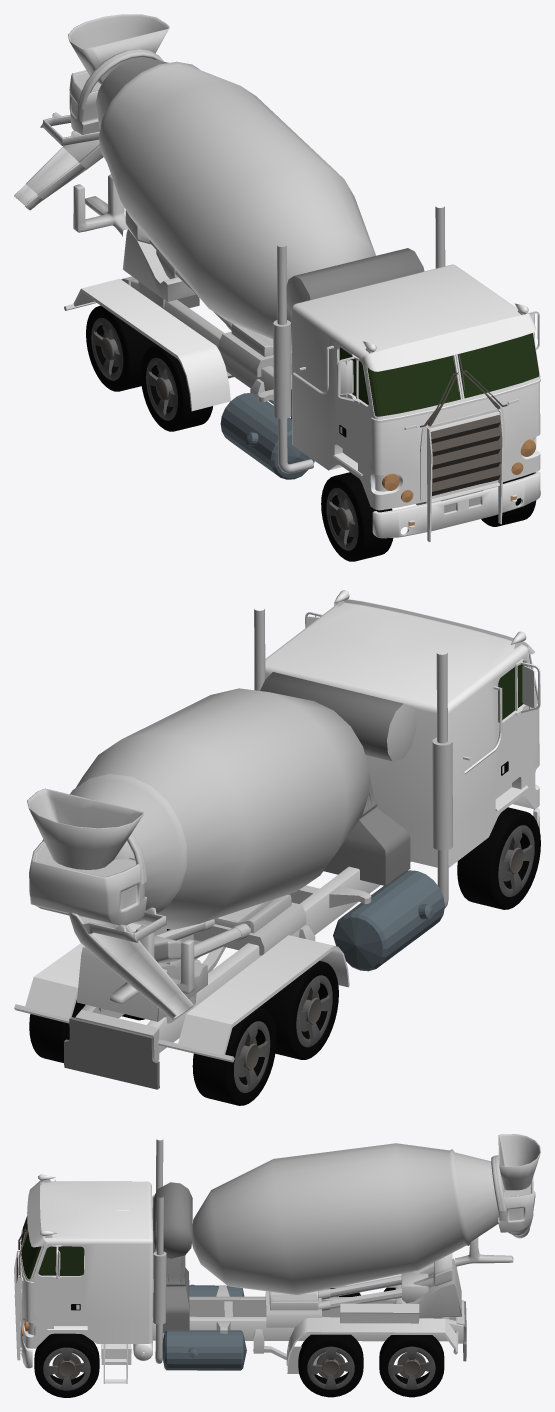
Rendered from car15.glb.
3 views of the same model, one above another, from view 1: azimuth 30°, elevation 25°; view 2: azimuth 150°, elevation 25°; view 3: azimuth 270°, elevation 25° (orthographic). The views are drawn at different scales.
Parts seen in each view (by area): view 1: obj1~01___Default_materialGroup_1, VehicleBody, ~car1504_materialGroup_5, ~01___Default_materialGroup_4, obj0~Material__32_materialGroup_0, ~??_22_materialGroup_7, obj2~car1503_materialGroup_2, ~09___Default_materialGroup_6, ~??_10_materialGroup_10, obj85~_____21_materialGroup_14, obj57~_____21_materialGroup_9, obj71~_____21_materialGroup_13 (+2 smaller); view 2: obj1~01___Default_materialGroup_1, VehicleBody, ~01___Default_materialGroup_4, ~09___Default_materialGroup_6, ~car1504_materialGroup_5, obj2~car1503_materialGroup_2, obj85~_____21_materialGroup_14, ~??_10_materialGroup_10, obj57~_____21_materialGroup_9, obj71~_____21_materialGroup_13, ~_____21_materialGroup_12, ~??_22_materialGroup_7 (+1 smaller); view 3: obj1~01___Default_materialGroup_1, VehicleBody, ~01___Default_materialGroup_4, ~_____21_materialGroup_12, ~car1504_materialGroup_5, ~09___Default_materialGroup_6, obj2~car1503_materialGroup_2, ~??_10_materialGroup_10, obj0~Material__32_materialGroup_0, ~??_22_materialGroup_7.
Boxes of the visible parts, left/top/right/bottom form: obj1~01___Default_materialGroup_1: left=14, top=14, right=375, bottom=345; VehicleBody: left=291, top=264, right=540, bottom=512; ~car1504_materialGroup_5: left=73, top=278, right=540, bottom=542; ~01___Default_materialGroup_4: left=64, top=206, right=445, bottom=505; obj0~Material__32_materialGroup_0: left=339, top=333, right=539, bottom=416; ~??_22_materialGroup_7: left=101, top=331, right=507, bottom=536; obj2~car1503_materialGroup_2: left=220, top=393, right=314, bottom=479; ~09___Default_materialGroup_6: left=121, top=248, right=424, bottom=419; ~??_10_materialGroup_10: left=91, top=318, right=358, bottom=550; obj85~_____21_materialGroup_14: left=321, top=472, right=393, bottom=561; obj57~_____21_materialGroup_9: left=86, top=305, right=156, bottom=391; obj71~_____21_materialGroup_13: left=140, top=345, right=212, bottom=431; obj1~01___Default_materialGroup_1: left=27, top=688, right=369, bottom=1019; VehicleBody: left=265, top=599, right=539, bottom=867; ~01___Default_materialGroup_4: left=14, top=609, right=452, bottom=1062; ~09___Default_materialGroup_6: left=64, top=672, right=410, bottom=1089; ~car1504_materialGroup_5: left=25, top=590, right=540, bottom=1055; obj2~car1503_materialGroup_2: left=333, top=870, right=444, bottom=971; obj85~_____21_materialGroup_14: left=457, top=807, right=540, bottom=909; ~??_10_materialGroup_10: left=234, top=825, right=534, bottom=1092; obj57~_____21_materialGroup_9: left=192, top=1007, right=276, bottom=1105; obj71~_____21_materialGroup_13: left=260, top=960, right=338, bottom=1059; ~_____21_materialGroup_12: left=29, top=929, right=169, bottom=1062; ~??_22_materialGroup_7: left=238, top=841, right=523, bottom=1077; obj1~01___Default_materialGroup_1: left=192, top=1134, right=540, bottom=1295; VehicleBody: left=18, top=1180, right=153, bottom=1383; ~01___Default_materialGroup_4: left=152, top=1139, right=464, bottom=1373; ~_____21_materialGroup_12: left=34, top=1333, right=444, bottom=1397; ~car1504_materialGroup_5: left=14, top=1174, right=456, bottom=1368; ~09___Default_materialGroup_6: left=153, top=1182, right=466, bottom=1361; obj2~car1503_materialGroup_2: left=162, top=1284, right=246, bottom=1370; ~??_10_materialGroup_10: left=43, top=1346, right=435, bottom=1390; obj0~Material__32_materialGroup_0: left=21, top=1216, right=84, bottom=1279; ~??_22_materialGroup_7: left=16, top=1227, right=425, bottom=1379.
Bounding box in the file's own units: 3.06 × 4.09 × 9.06.
